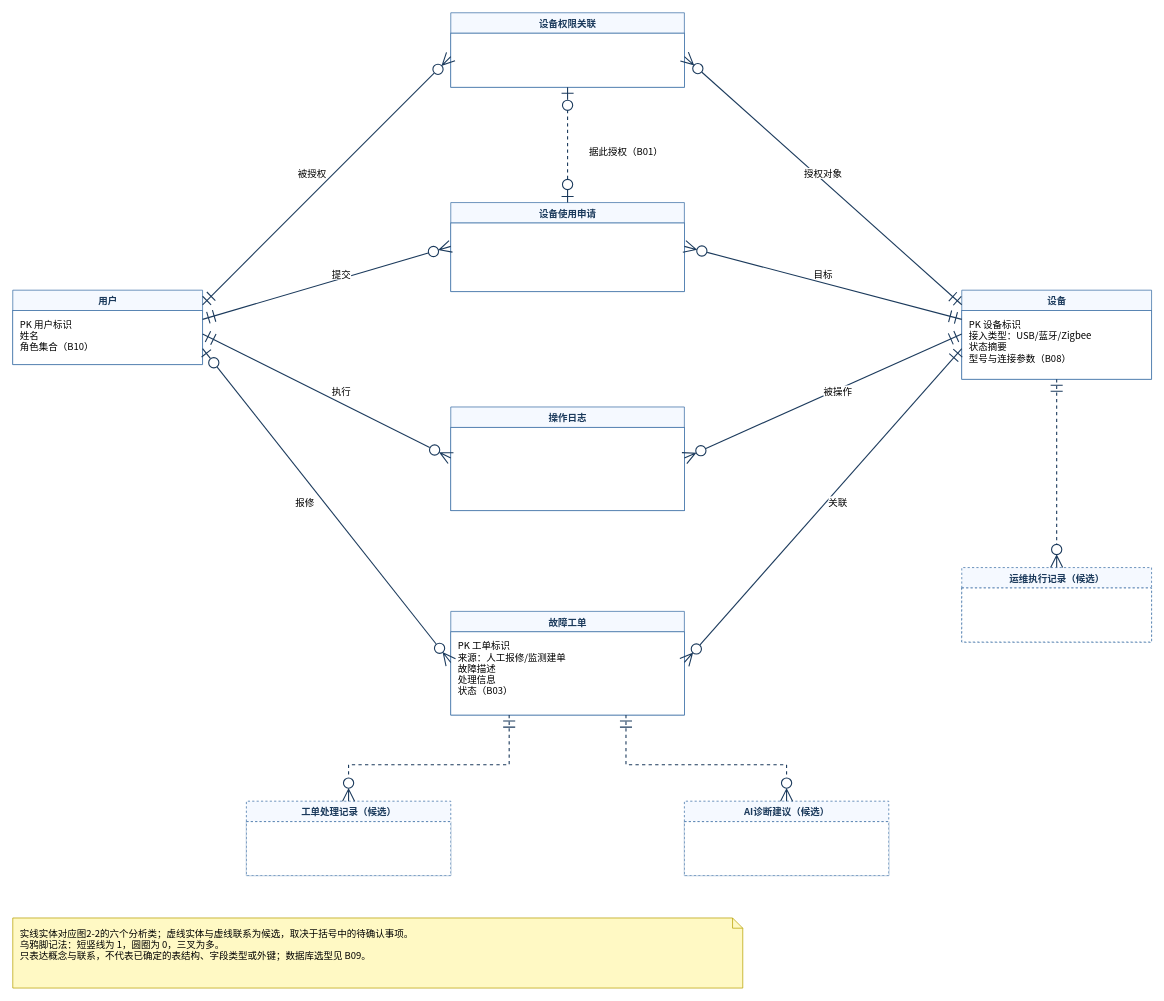
This 1164x1001 diagram has some shape labels left out. Here are the shapes that lost their labels. From the top down, the centre of each, then its label:
(567,59): PK 授权标识 授权范围（B02） 有效期（B02，可选）
(567,257): PK 申请标识 提交时间 使用说明 处理状态（B01）
(567,469): PK 日志标识 时间 操作内容 结果：成功/失败/未知 其他字段（B06）
(1056,614): PK 记录标识 动作 · 时间 · 结果 执行人（B05）
(348,848): PK 记录标识 处理内容 · 时间 处理人（B03）
(786,848): PK 建议标识 建议内容 · 时间 请求人（B07）
